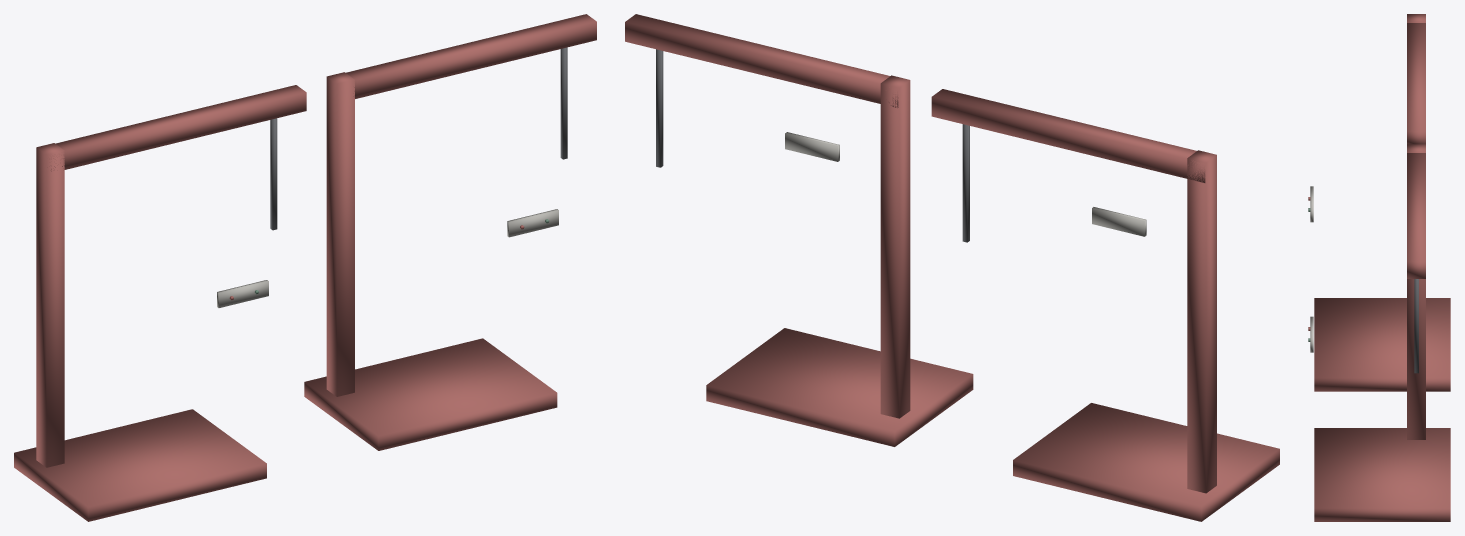
The model's file is engine_hoist__cluster.glb.
The picture shows the model from 3 angles, left to right: view 1: azimuth 30°, elevation 25°; view 2: azimuth 150°, elevation 25°; view 3: azimuth 270°, elevation 25°; orthographic projection. The views are drawn at different scales.
Parts seen in each view (by area): view 1: world; view 2: world; view 3: world.
Part boxes in pixels (bbox=[...]): world: bbox=[14, 14, 596, 521]; world: bbox=[625, 14, 1279, 521]; world: bbox=[1308, 14, 1450, 521].
Bounding box in the file's own units: 3.13 × 1.75 × 0.751.
